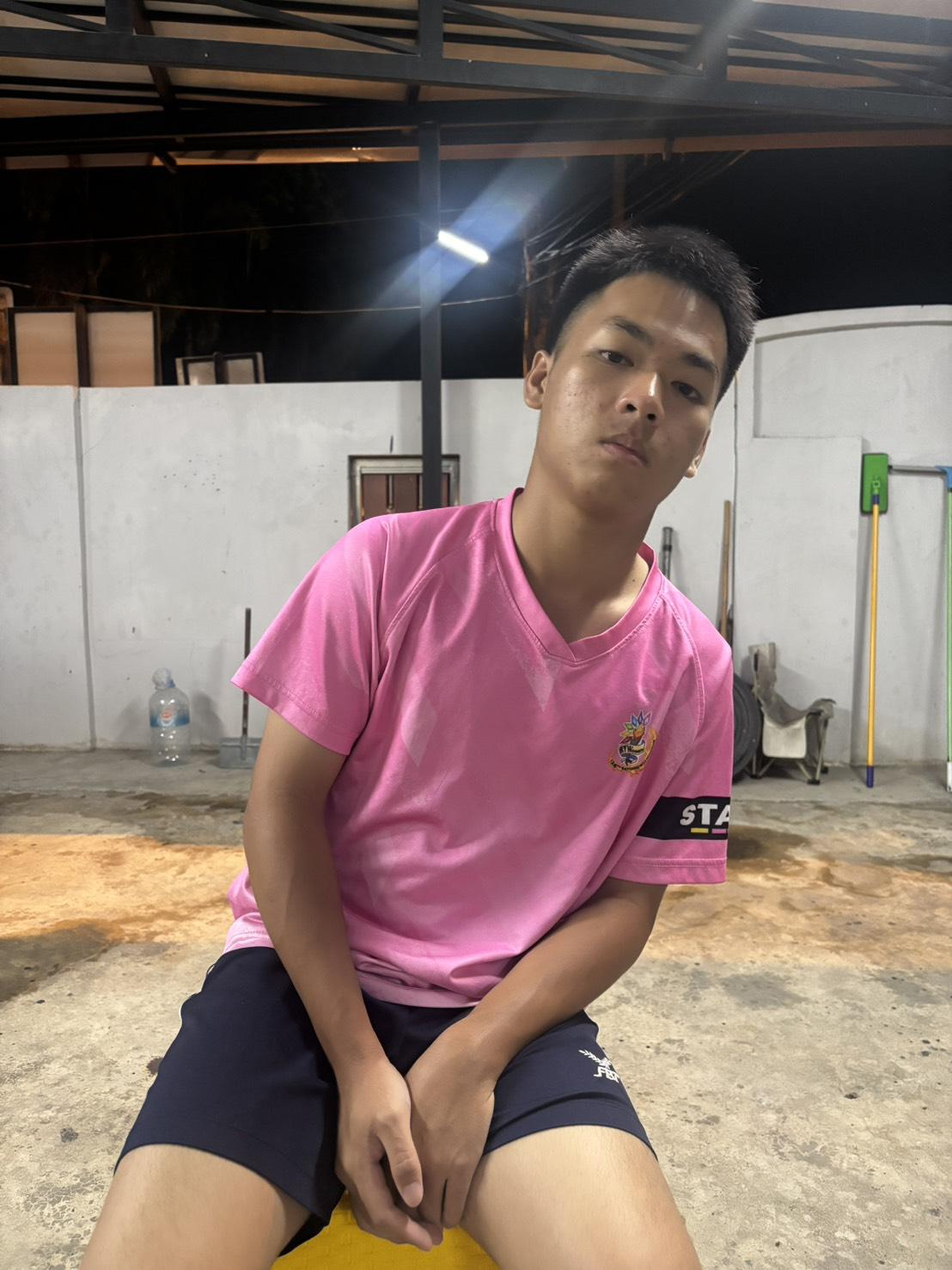BadPosture: (81, 227, 754, 1269)
